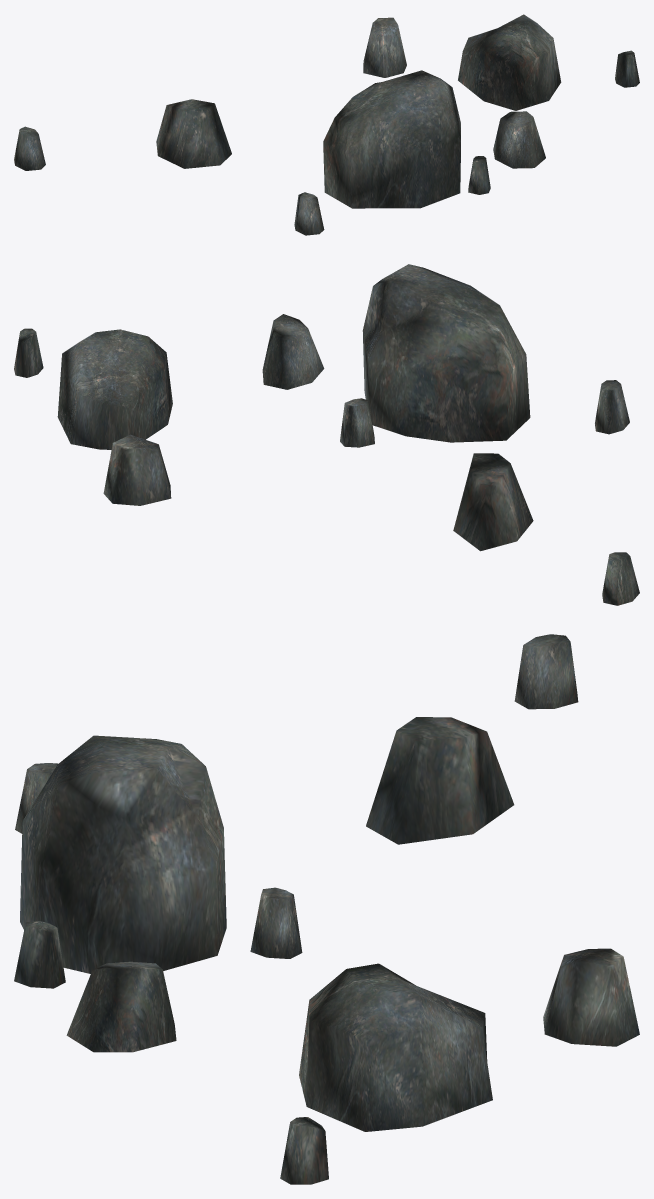
Rendered from RockS003_lod1.glb.
The picture shows the model from 3 angles, top to bottom: view 1: azimuth 30°, elevation 25°; view 2: azimuth 150°, elevation 25°; view 3: azimuth 270°, elevation 25°; orthographic projection. The views are drawn at different scales.
Visible parts, largest first — view 1: rock_s003_lod1; view 2: rock_s003_lod1; view 3: rock_s003_lod1.
Part boxes in pixels (x1,y1,x2,y2): rock_s003_lod1: (14, 14, 639, 235); rock_s003_lod1: (14, 264, 639, 605); rock_s003_lod1: (14, 634, 639, 1184).
Size of the model in its own units: 3.2 by 0.5603 by 1.7.
Materials: 1 (1 with a texture image).
